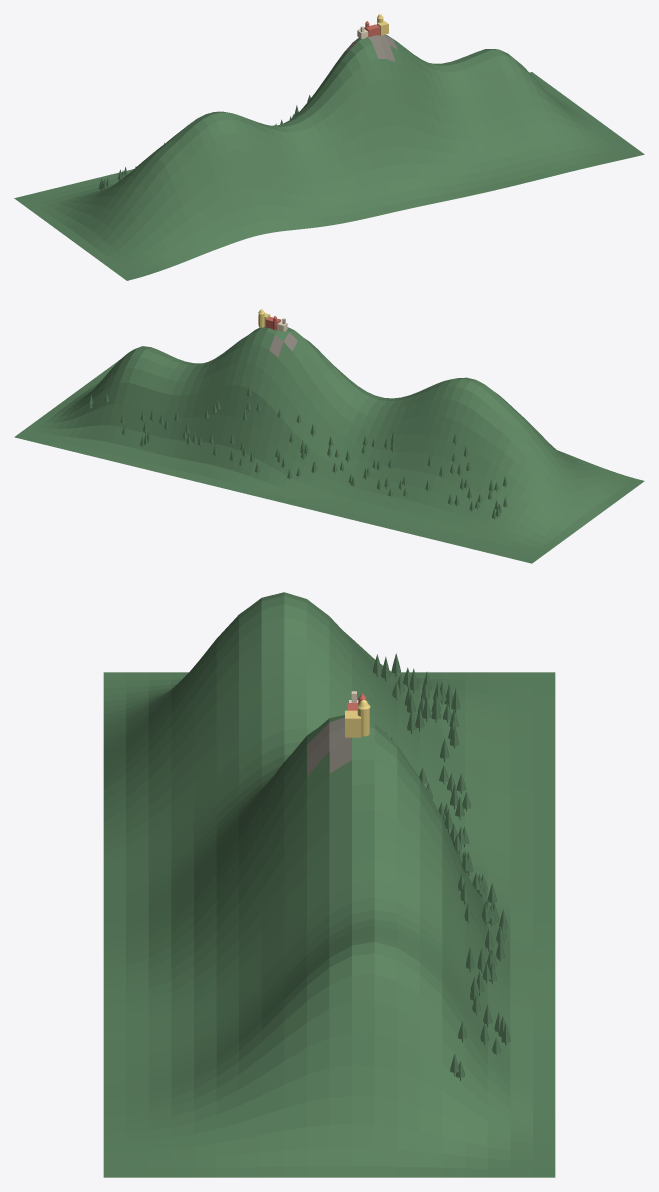
File: sintra_hills.glb
3 views of the same model, one above another, from view 1: azimuth 30°, elevation 25°; view 2: azimuth 150°, elevation 25°; view 3: azimuth 270°, elevation 25° (orthographic). The views are drawn at different scales.
Parts seen in each view (by area): view 1: ridge, pena_palace; view 2: ridge, trees, pena_palace; view 3: ridge, trees, pena_palace.
Part boxes in pixels (x1,y1,x2,y2): ridge: [14, 34, 644, 280]; pena_palace: [357, 14, 388, 39]; ridge: [14, 326, 644, 563]; trees: [88, 386, 507, 519]; pena_palace: [258, 309, 287, 331]; ridge: [103, 592, 555, 1177]; trees: [373, 653, 510, 1080]; pena_palace: [345, 691, 370, 737].
Size of the model in its own units: 900 by 235 by 340.
